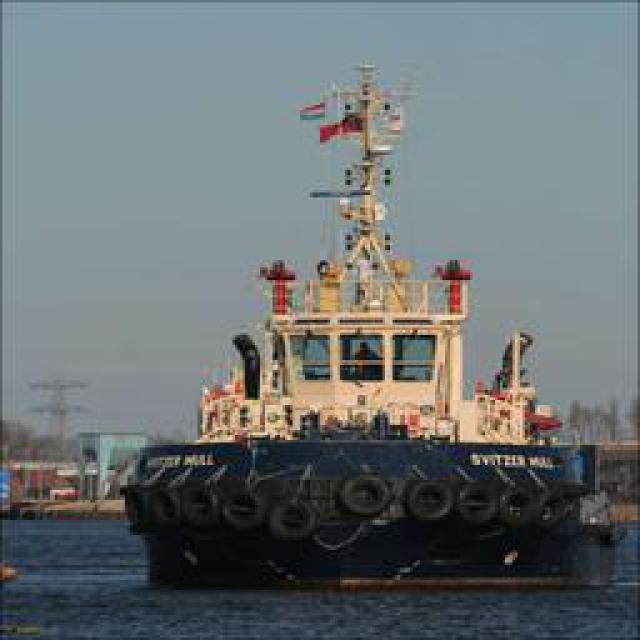Ship: (120, 51, 608, 584)
